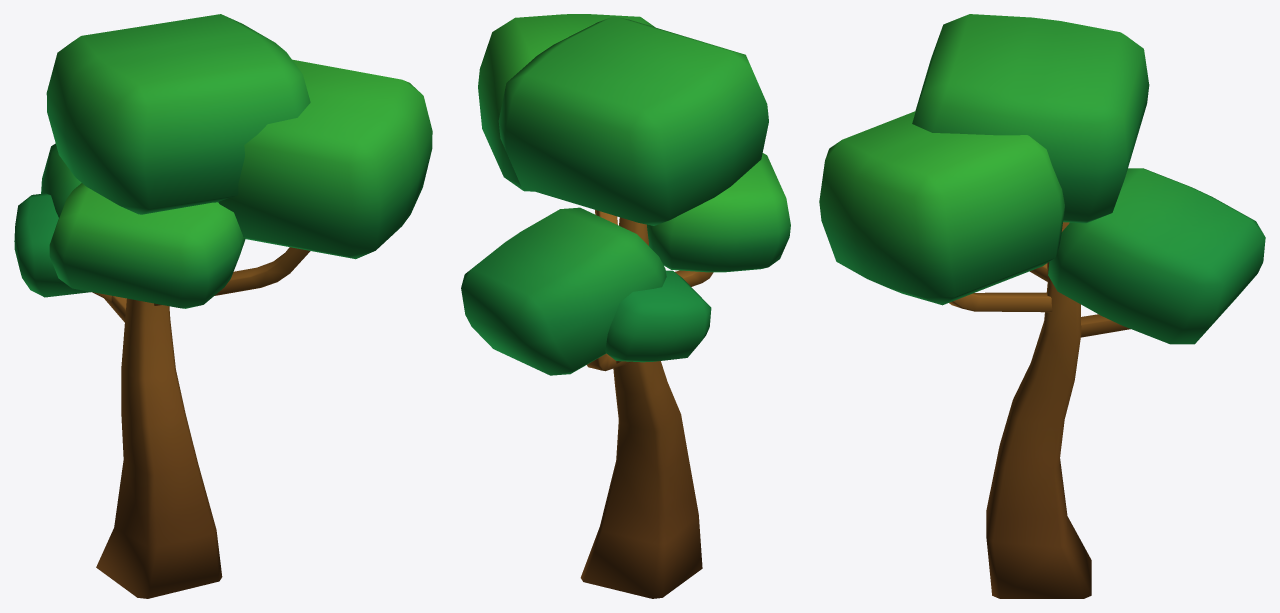
File: Tree_1_1.glb
3 views of the same model, side by side, from view 1: azimuth 30°, elevation 25°; view 2: azimuth 150°, elevation 25°; view 3: azimuth 270°, elevation 25° (orthographic). The views are drawn at different scales.
Visible parts, largest first — view 1: Tree_1_1; view 2: Tree_1_1; view 3: Tree_1_1.
Part boxes in pixels (x1,y1,x2,y2): Tree_1_1: (14,14,432,598); Tree_1_1: (461,14,790,598); Tree_1_1: (819,14,1265,598).
Size of the model in its own units: 2.51 by 3.71 by 2.8.
Materials: 1 (1 with a texture image).
